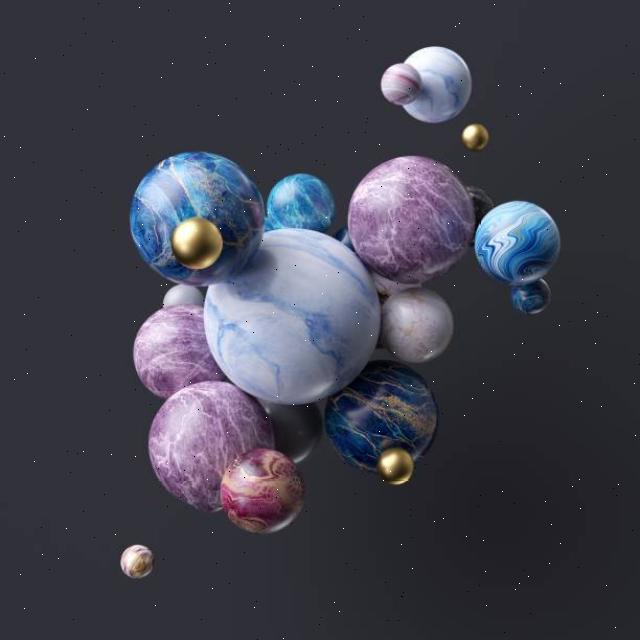Metamorphic: (78, 46, 578, 609)
